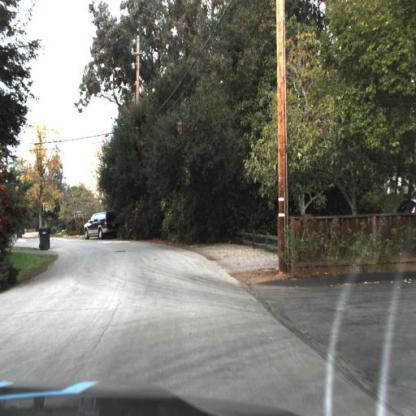car: (80, 204, 122, 246)
